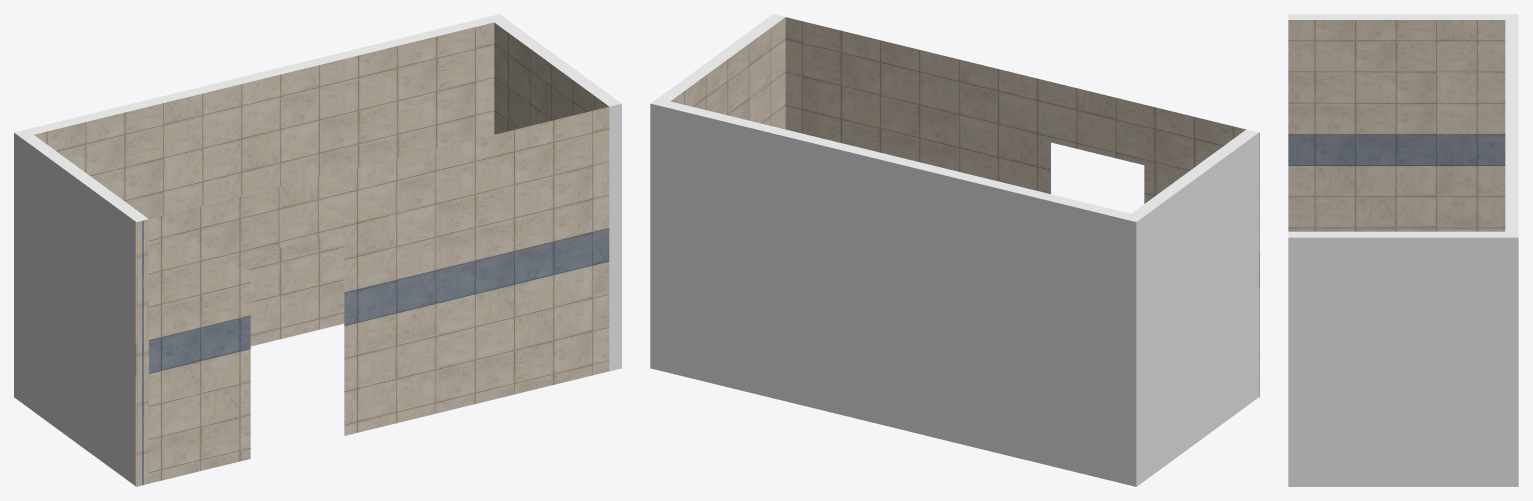
The model's file is Bathroom walls.FBX.
3 views of the same model, side by side, from view 1: azimuth 30°, elevation 25°; view 2: azimuth 150°, elevation 25°; view 3: azimuth 270°, elevation 25° (orthographic). The views are drawn at different scales.
Visible parts, largest first — view 1: bathroom walls; view 2: bathroom walls; view 3: bathroom walls.
Boxes of the visible parts, left/top/right/bottom form: bathroom walls: left=14, top=14, right=621, bottom=486; bathroom walls: left=650, top=14, right=1259, bottom=486; bathroom walls: left=1288, top=14, right=1518, bottom=486.
Bounding box in the file's own units: 633 × 329 × 276.
Materials: 2 (1 with a texture image).
